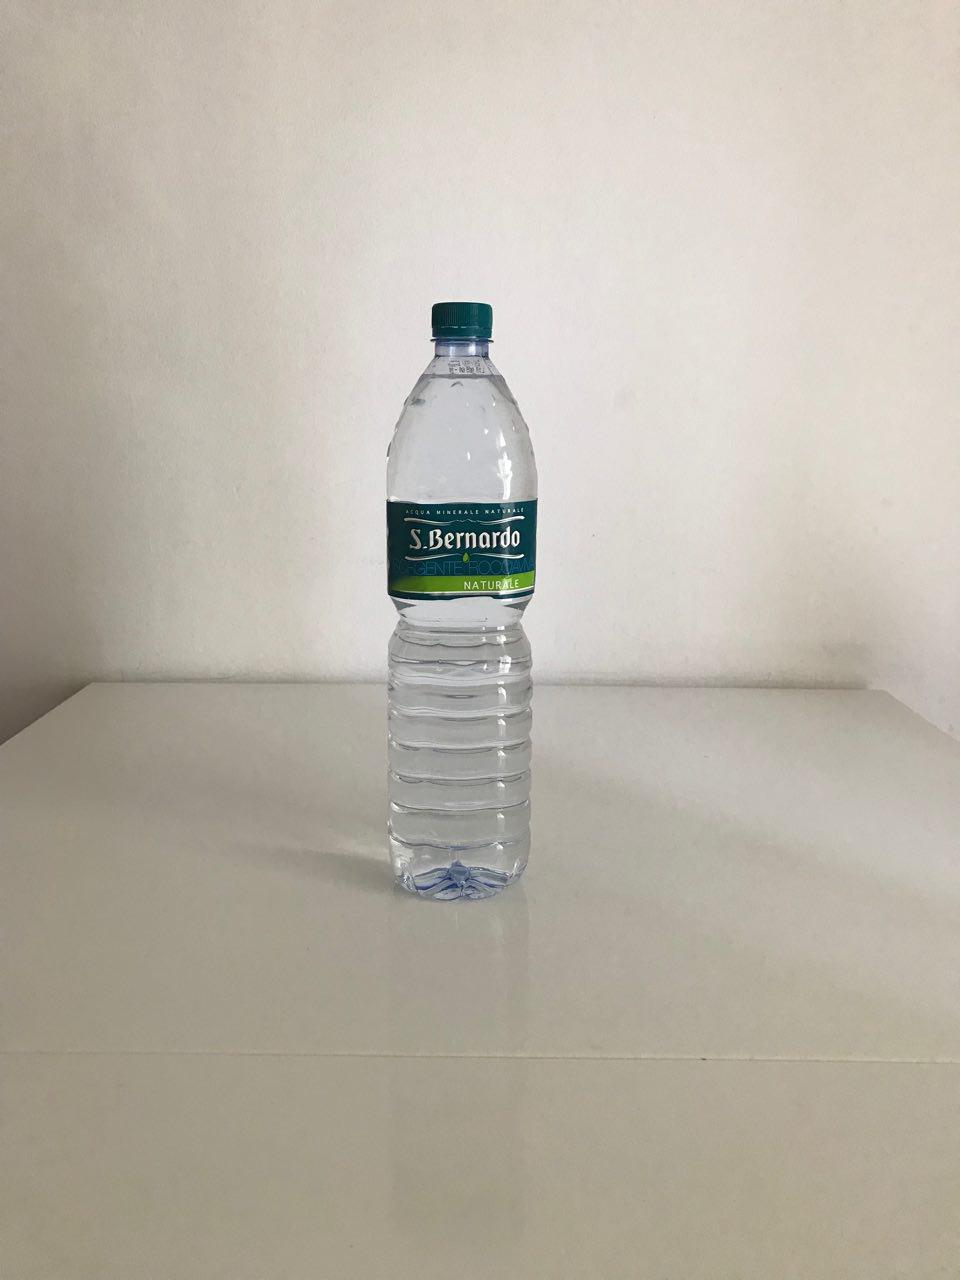san_bernardo: (382, 299, 541, 903)
